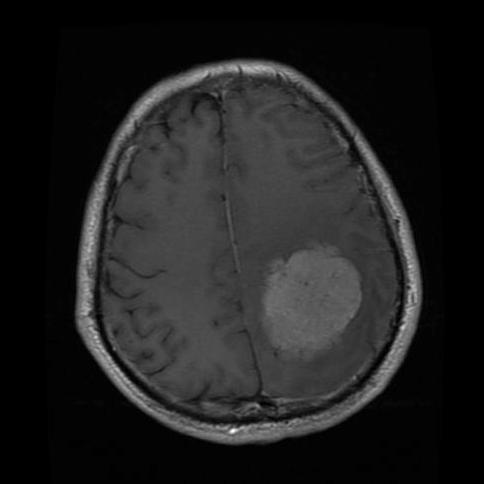Tumour-Pituitary: (225, 227, 372, 386)
